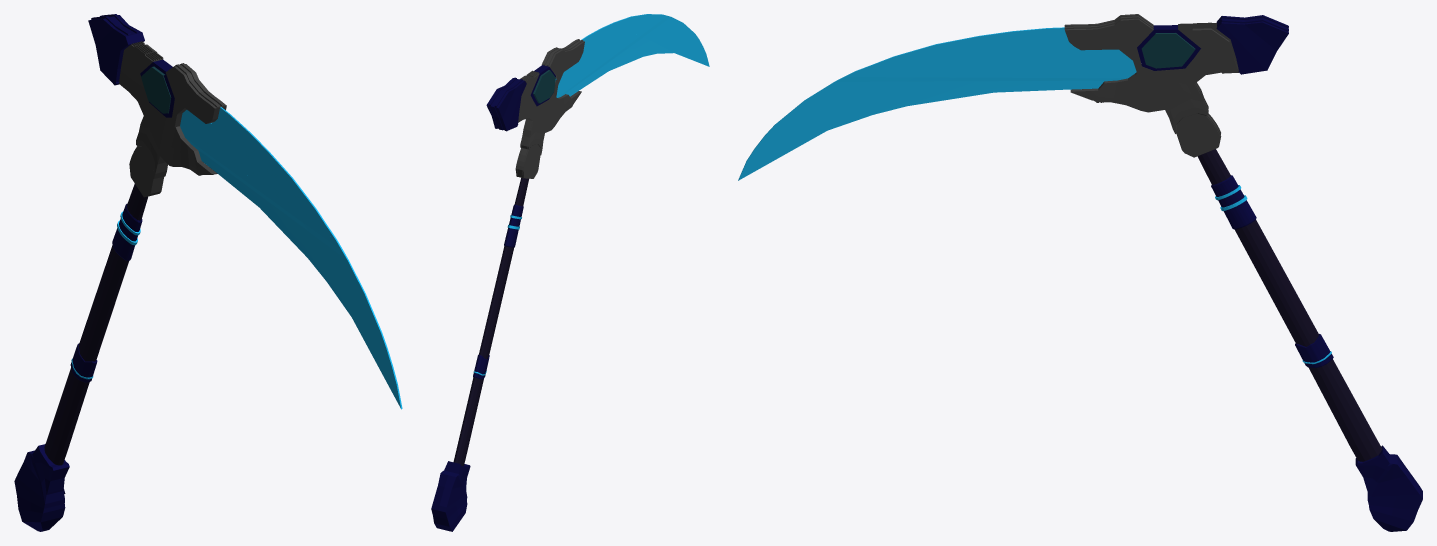
File: scythe.fbx
The picture shows the model from 3 angles, left to right: view 1: azimuth 30°, elevation 25°; view 2: azimuth 150°, elevation 25°; view 3: azimuth 270°, elevation 25°; orthographic projection. The views are drawn at different scales.
Parts seen in each view (by area): view 1: Cube.033; view 2: Cube.033; view 3: Cube.033.
Boxes of the visible parts, bbox=[...] form: Cube.033: bbox=[14, 14, 402, 531]; Cube.033: bbox=[431, 14, 709, 531]; Cube.033: bbox=[738, 14, 1422, 531].
Size of the model in its own units: 23.54 by 576 by 695.
